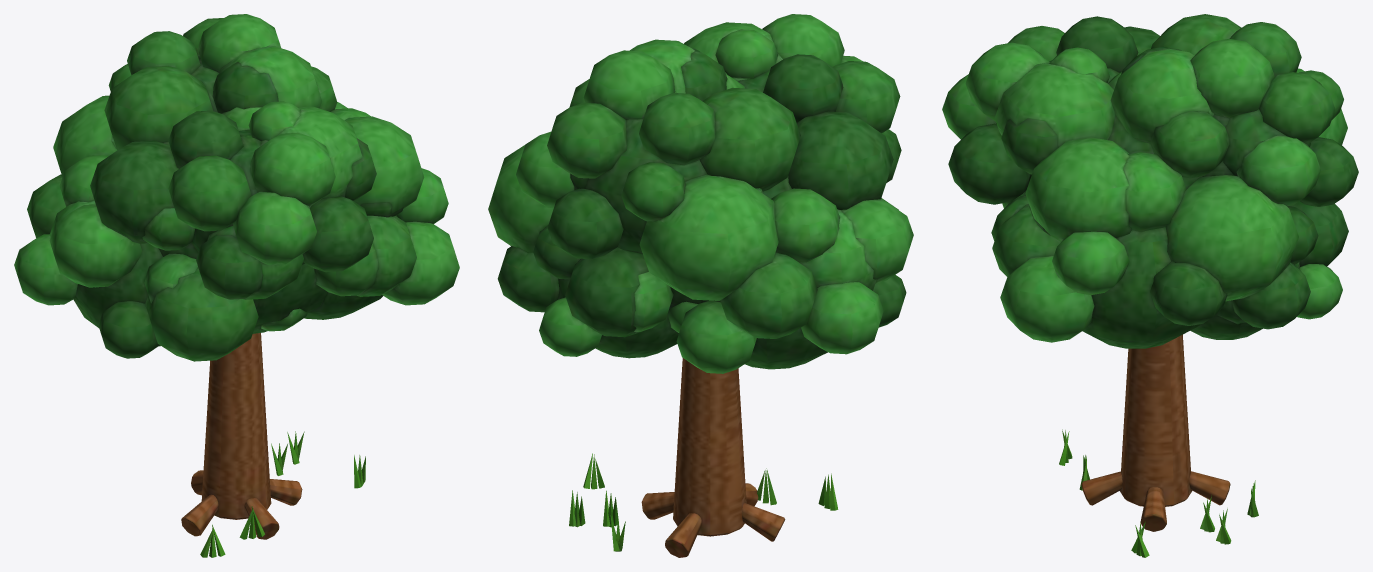
File: damson_tree.glb
3 renders of one model, left to right at view 1: azimuth 30°, elevation 25°; view 2: azimuth 150°, elevation 25°; view 3: azimuth 270°, elevation 25°, orthographic. The views are drawn at different scales.
Visible parts, largest first — view 1: crown, damson_tree; view 2: crown, damson_tree; view 3: crown, damson_tree.
Boxes of the visible parts, x1=… form: crown: x1=14, y1=14, x2=459, y2=361; damson_tree: x1=181, y1=333, x2=365, y2=557; crown: x1=488, y1=14, x2=913, y2=373; damson_tree: x1=569, y1=358, x2=838, y2=557; crown: x1=942, y1=14, x2=1358, y2=348; damson_tree: x1=1059, y1=334, x2=1258, y2=557.
Bounding box in the file's own units: 1.1 × 1.31 × 1.03.
Materials: 1 (1 with a texture image).
